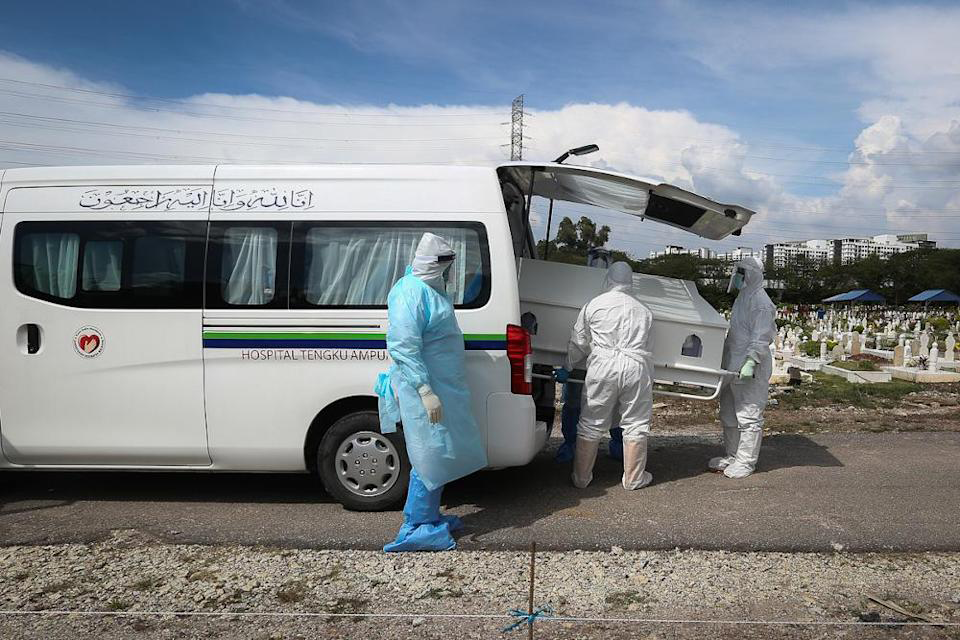Coverall: (380, 231, 476, 525), (571, 261, 652, 468), (714, 255, 776, 471)
Gloves: (415, 383, 446, 428), (737, 354, 762, 380)
